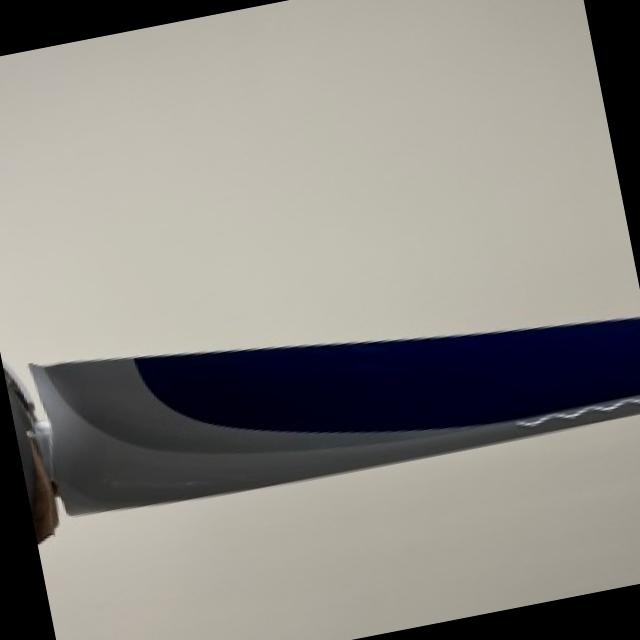healthy: (35, 315, 640, 512)
